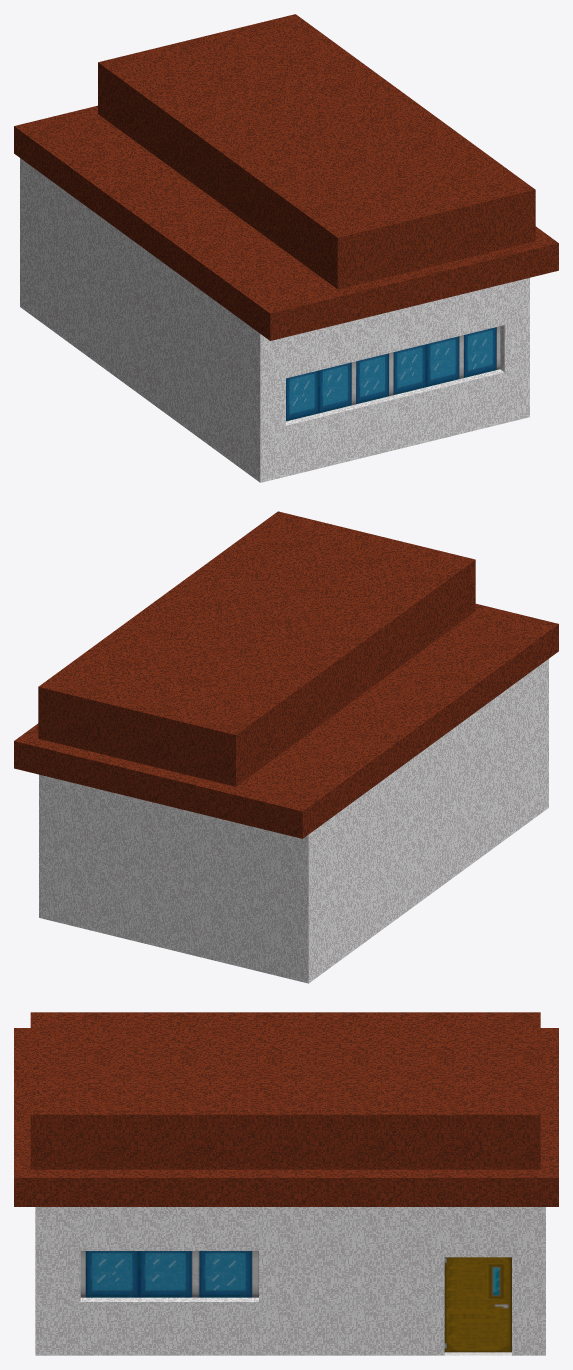
The model's file is BGN_MINI OFFICE BUILD.fbx.
3 views of the same model, one above another, from view 1: azimuth 30°, elevation 25°; view 2: azimuth 150°, elevation 25°; view 3: azimuth 270°, elevation 25° (orthographic). The views are drawn at different scales.
Visible parts, largest first — view 1: BGN_MINI_OFFICE_BUILD; view 2: BGN_MINI_OFFICE_BUILD; view 3: BGN_MINI_OFFICE_BUILD.
Part boxes in pixels (<box>): BGN_MINI_OFFICE_BUILD: <box>14,14,558,482</box>; BGN_MINI_OFFICE_BUILD: <box>14,511,558,983</box>; BGN_MINI_OFFICE_BUILD: <box>14,1012,558,1355</box>.
Bounding box in the file's own units: 825 × 624 × 1269.
